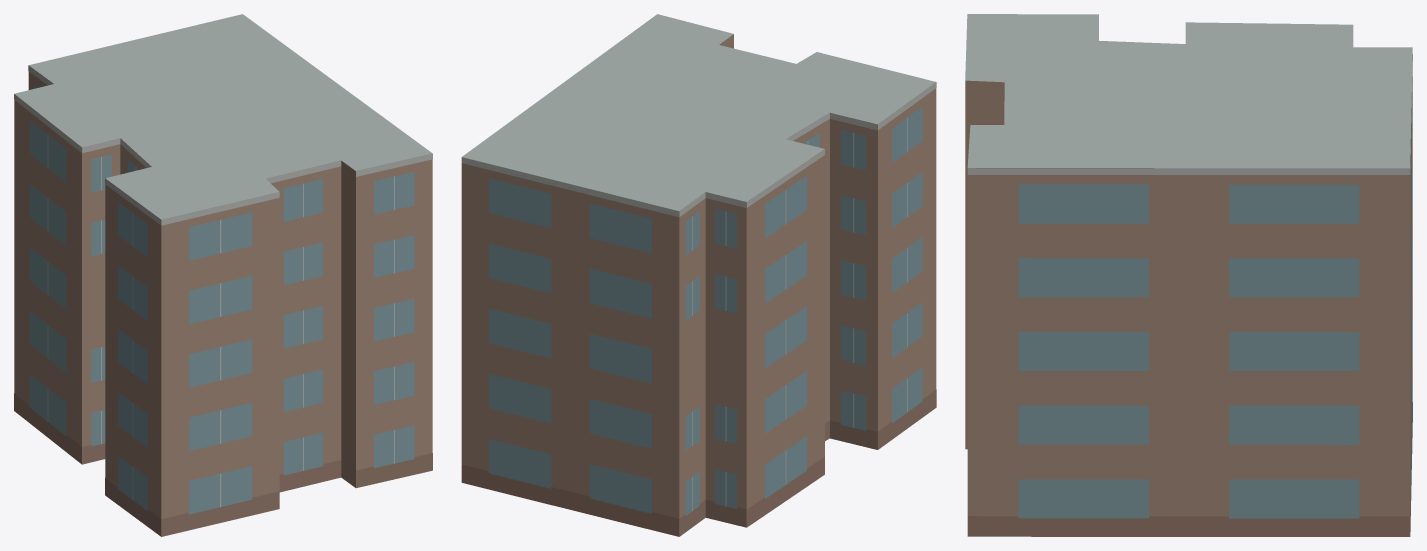
The model's file is survey-upis-32823783.glb.
3 renders of one model, left to right at view 1: azimuth 30°, elevation 25°; view 2: azimuth 150°, elevation 25°; view 3: azimuth 270°, elevation 25°, orthographic. The views are drawn at different scales.
Parts seen in each view (by area): view 1: survey-upis-32823783.tmp; view 2: survey-upis-32823783.tmp; view 3: survey-upis-32823783.tmp.
Boxes of the visible parts, <box> form: survey-upis-32823783.tmp: <box>14,14,432,536</box>; survey-upis-32823783.tmp: <box>461,14,936,536</box>; survey-upis-32823783.tmp: <box>965,14,1412,536</box>.
Bounding box in the file's own units: 11.76 × 13.1 × 14.43.
